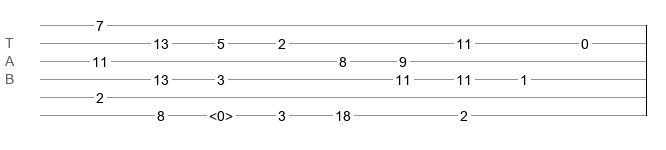0: (581, 36, 589, 46)
1: (520, 72, 528, 82)
11: (92, 54, 108, 64), (395, 72, 411, 82), (456, 36, 472, 46), (456, 72, 472, 82)
13: (153, 72, 169, 82), (153, 36, 169, 46)
18: (335, 108, 351, 118)
2: (96, 90, 104, 100), (278, 36, 286, 46), (460, 108, 468, 118)
3: (217, 72, 225, 82), (278, 108, 286, 118)
5: (217, 36, 225, 46)
7: (96, 18, 104, 28)
8: (157, 108, 165, 118), (339, 54, 347, 64)
9: (399, 54, 407, 64)
harmonic: (209, 108, 233, 118)
